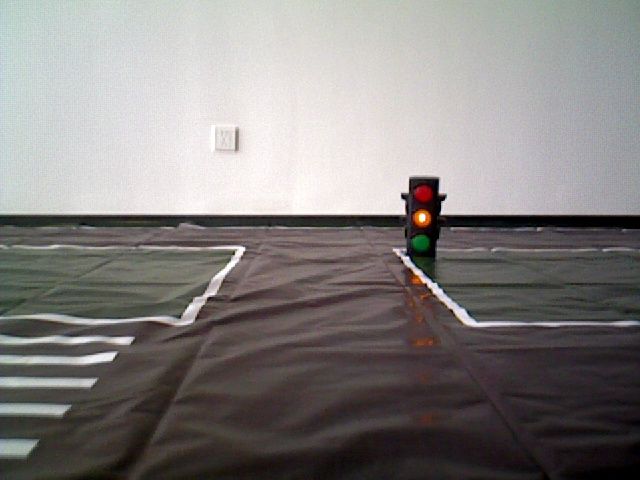yellow: (405, 177, 438, 260)
